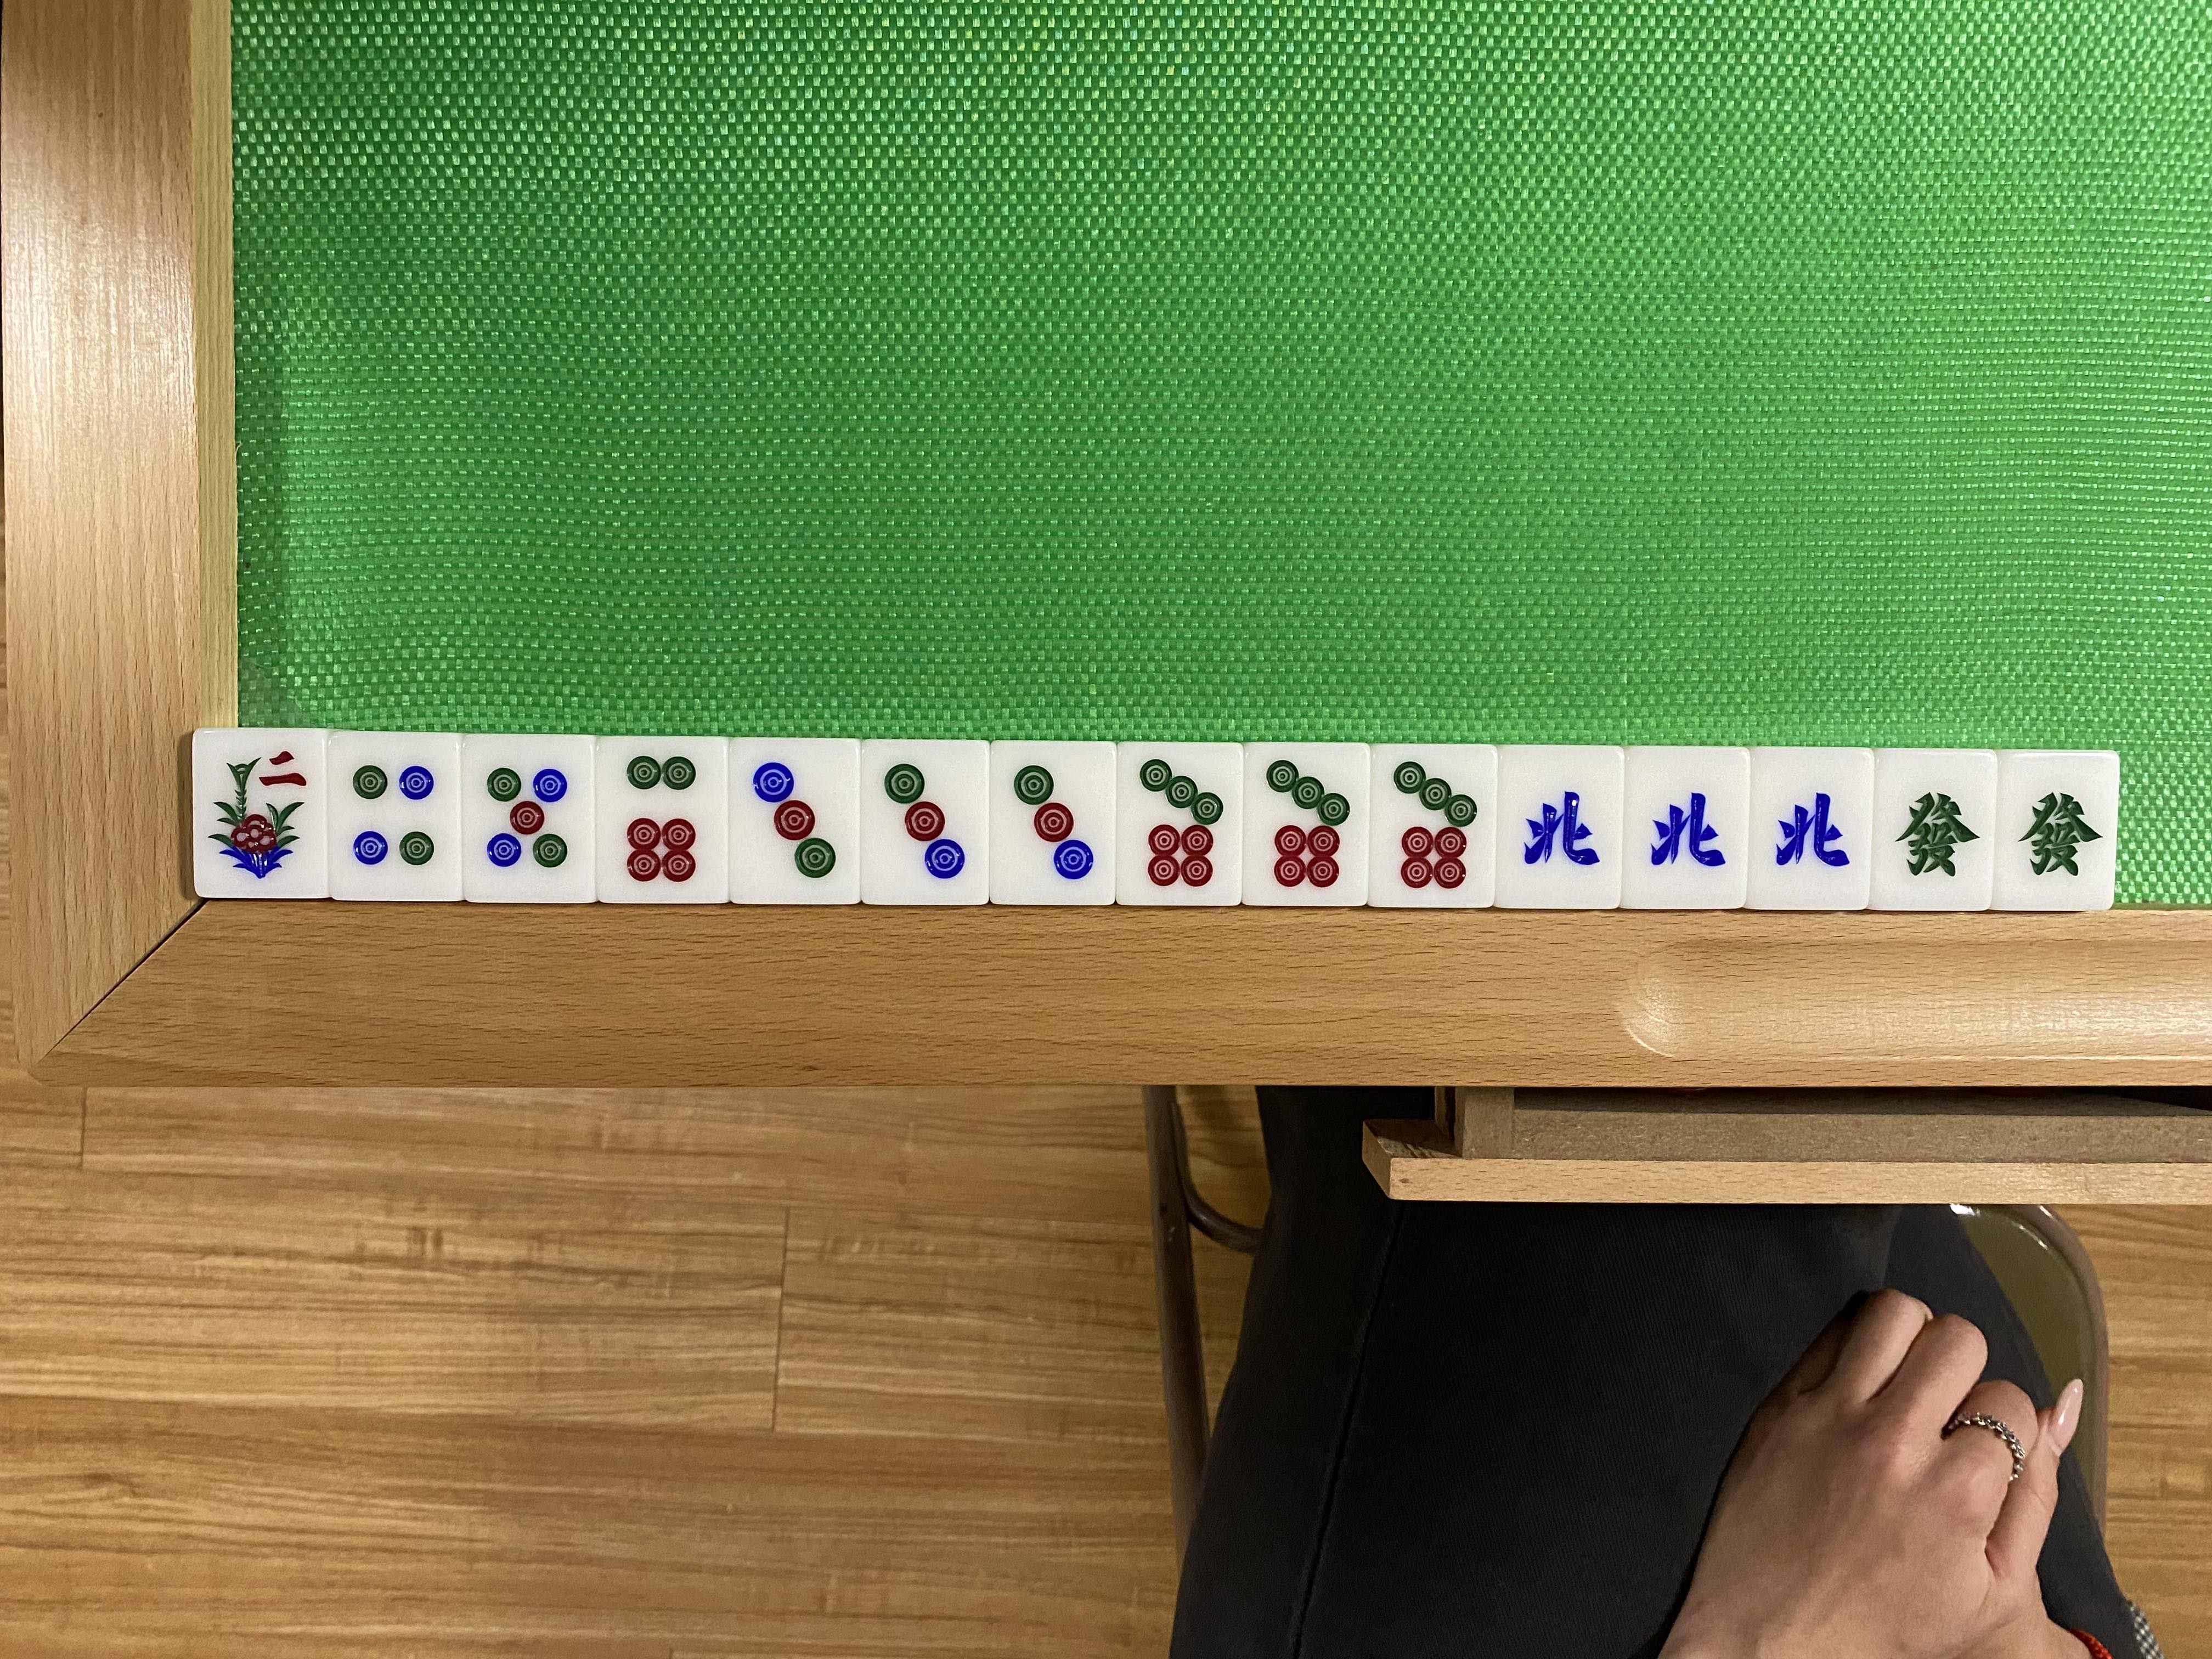circle-five: (463, 734, 592, 901)
circle-four: (329, 734, 462, 899)
circle-seven: (1118, 742, 1240, 904), (1245, 744, 1367, 903), (1372, 746, 1493, 906)
circle-six: (592, 737, 725, 899)
circle-three: (859, 741, 989, 903), (728, 739, 857, 901), (989, 742, 1115, 904)
flower-red_two: (195, 734, 326, 899)
honor-green_dragon: (1996, 753, 2113, 908), (1876, 751, 1991, 908)
honor-north_wind: (1498, 746, 1622, 906), (1752, 748, 1869, 910), (1625, 751, 1743, 906)
